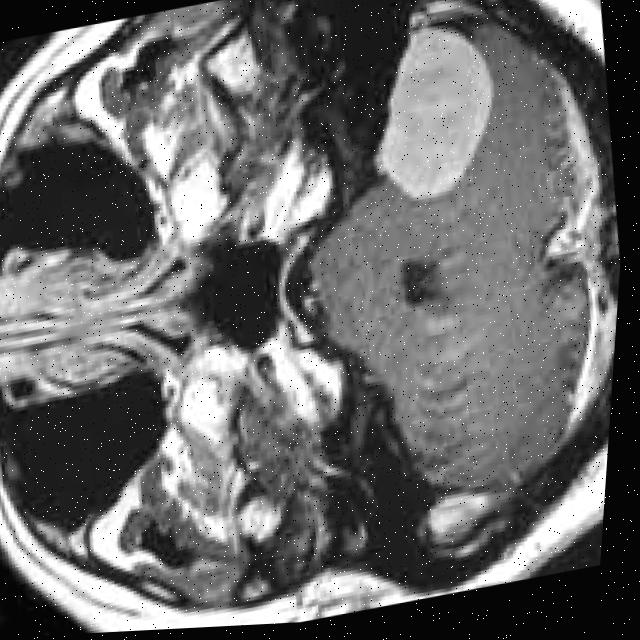Meningioma: (349, 7, 513, 213)
